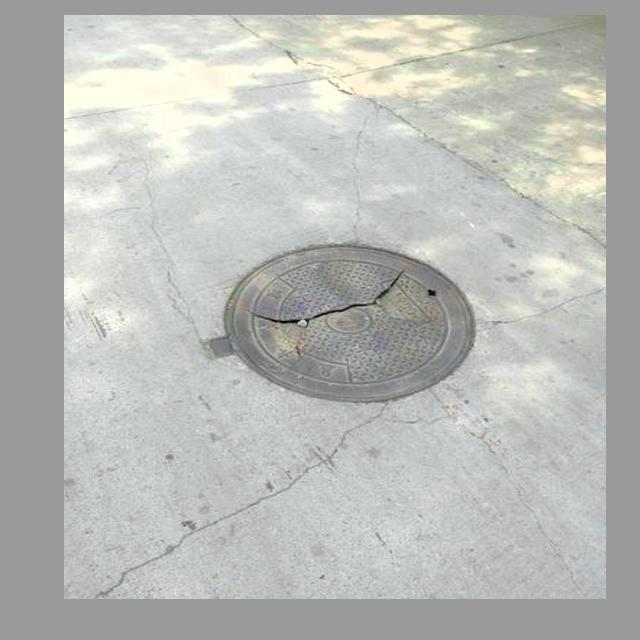broke: (203, 234, 481, 409)
